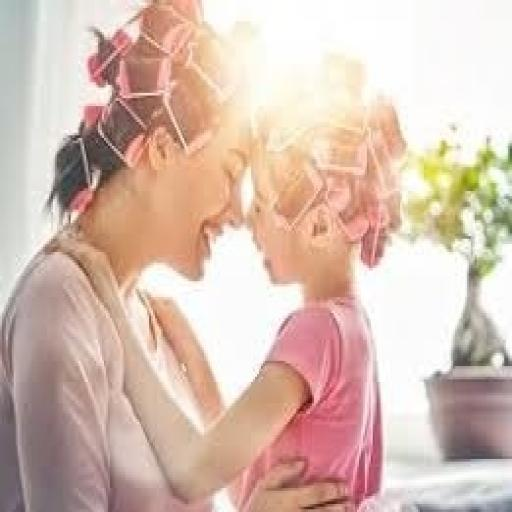hugging: (0, 0, 408, 509)
